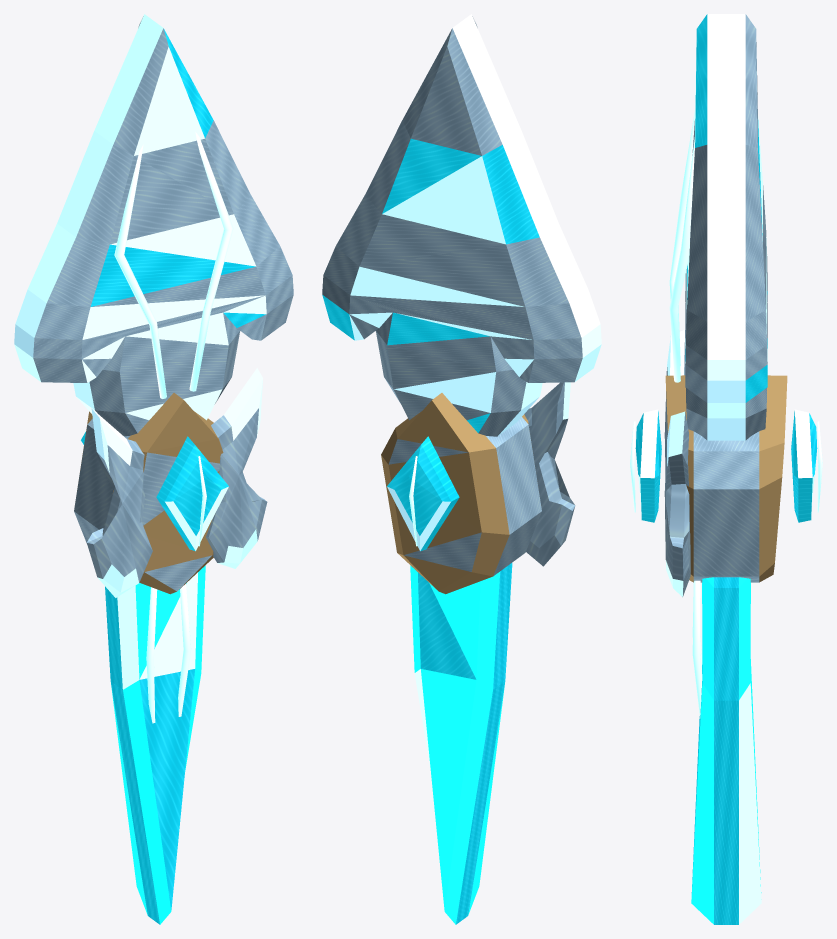
File: wind.glb
3 renders of one model, left to right at view 1: azimuth 30°, elevation 25°; view 2: azimuth 150°, elevation 25°; view 3: azimuth 270°, elevation 25°, orthographic.
Visible parts, largest first — view 1: Collar | raised sapphire lozenge; view 2: Collar | raised sapphire lozenge; view 3: Collar | raised sapphire lozenge.
Part boxes in pixels (box(x1,y1,x2,y2)): Collar | raised sapphire lozenge: box(14, 14, 293, 924); Collar | raised sapphire lozenge: box(322, 14, 601, 924); Collar | raised sapphire lozenge: box(630, 14, 822, 924).
Size of the model in its own units: 1.11 by 3.65 by 0.7001.
6 materials, 2 textured.
